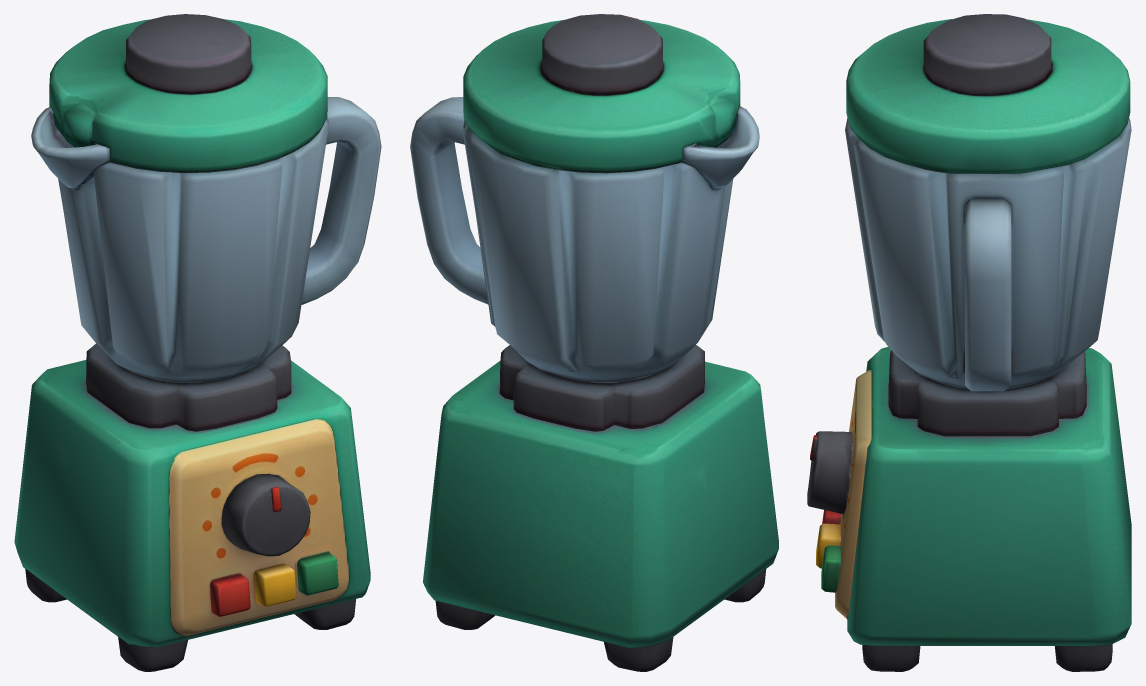
File: blender.fbx
The picture shows the model from 3 angles, left to right: view 1: azimuth 30°, elevation 25°; view 2: azimuth 150°, elevation 25°; view 3: azimuth 270°, elevation 25°; orthographic projection. The views are drawn at different scales.
Visible parts, largest first — view 1: tripo_node_88450b9a; view 2: tripo_node_88450b9a; view 3: tripo_node_88450b9a.
Part boxes in pixels (<box>): tripo_node_88450b9a: <box>14,14,381,671</box>; tripo_node_88450b9a: <box>410,14,778,671</box>; tripo_node_88450b9a: <box>807,14,1131,671</box>.
Size of the model in its own units: 0.6191 by 0.998 by 0.5059.
